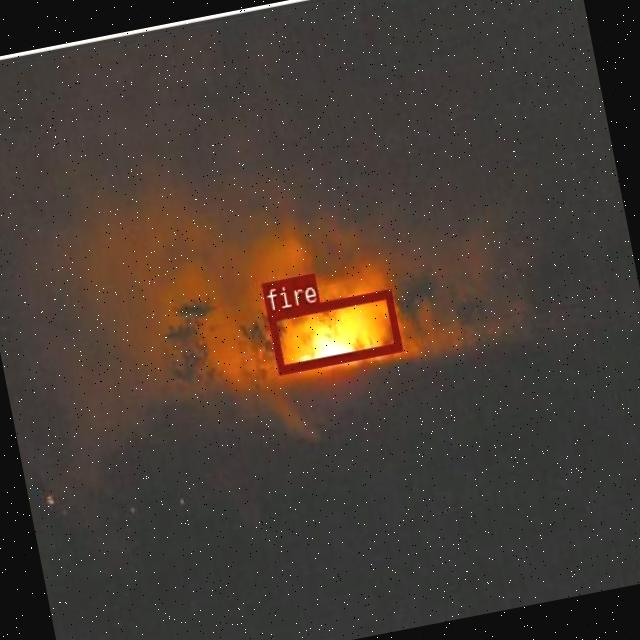fire: (266, 288, 402, 374)
